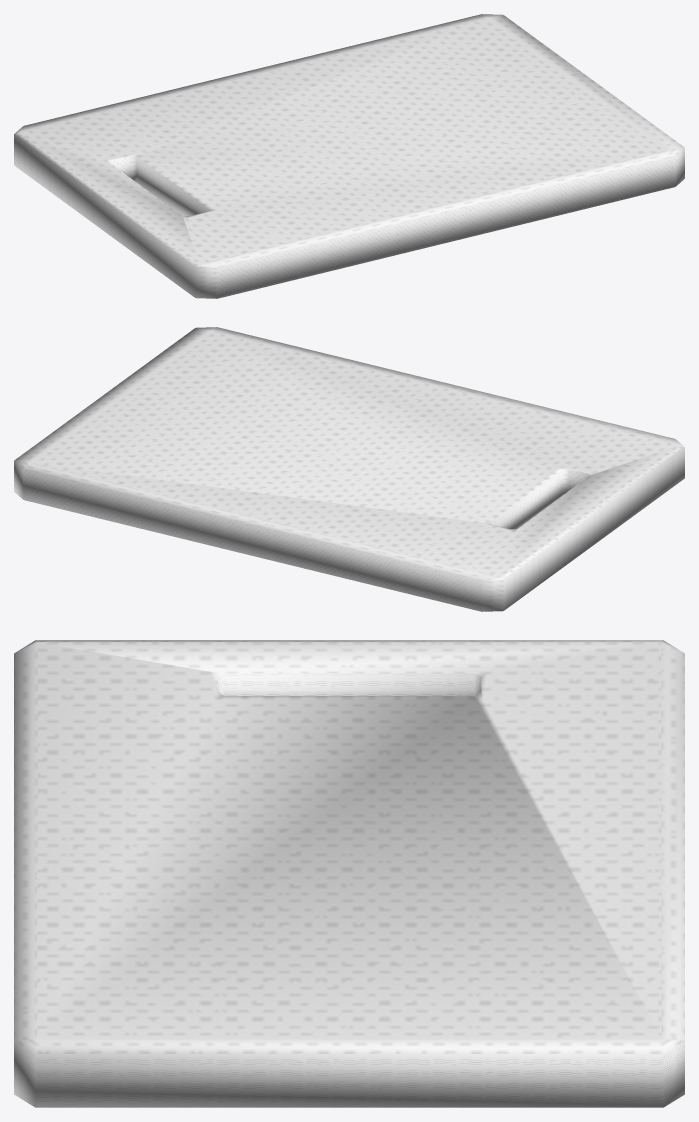
Rendered from kitchen_manaita.fbx.
3 views of the same model, one above another, from view 1: azimuth 30°, elevation 25°; view 2: azimuth 150°, elevation 25°; view 3: azimuth 270°, elevation 25° (orthographic). The views are drawn at different scales.
Parts seen in each view (by area): view 1: manaita.001; view 2: manaita.001; view 3: manaita.001.
Boxes of the visible parts, x1=… form: manaita.001: x1=14, y1=14, x2=684, y2=298; manaita.001: x1=14, y1=327, x2=684, y2=611; manaita.001: x1=14, y1=640, x2=684, y2=1107.
Size of the model in its own units: 151 by 9.79 by 104.
Materials: 1 (1 with a texture image).
